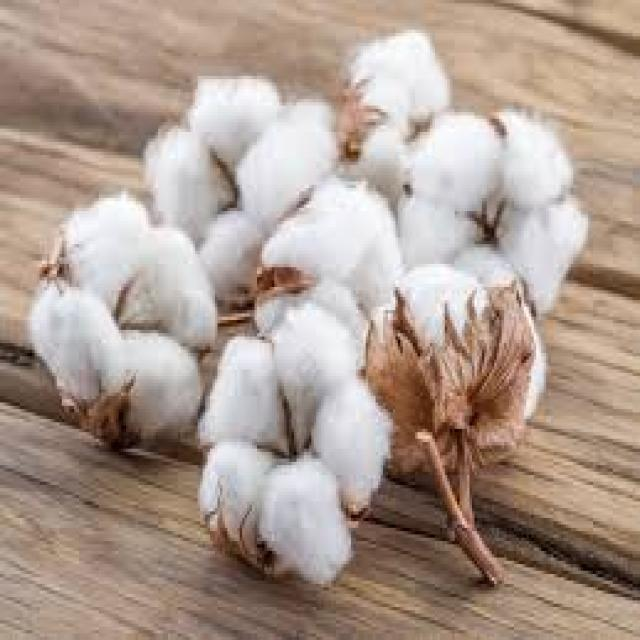Matured Cotton Boll: (199, 304, 399, 592), (29, 189, 220, 449), (143, 73, 338, 290), (392, 96, 590, 308), (365, 265, 549, 477), (254, 182, 401, 323), (344, 24, 454, 160)
